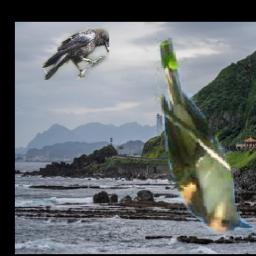Crow: (44, 27, 110, 80)
Cuckoo: (156, 33, 256, 237)
